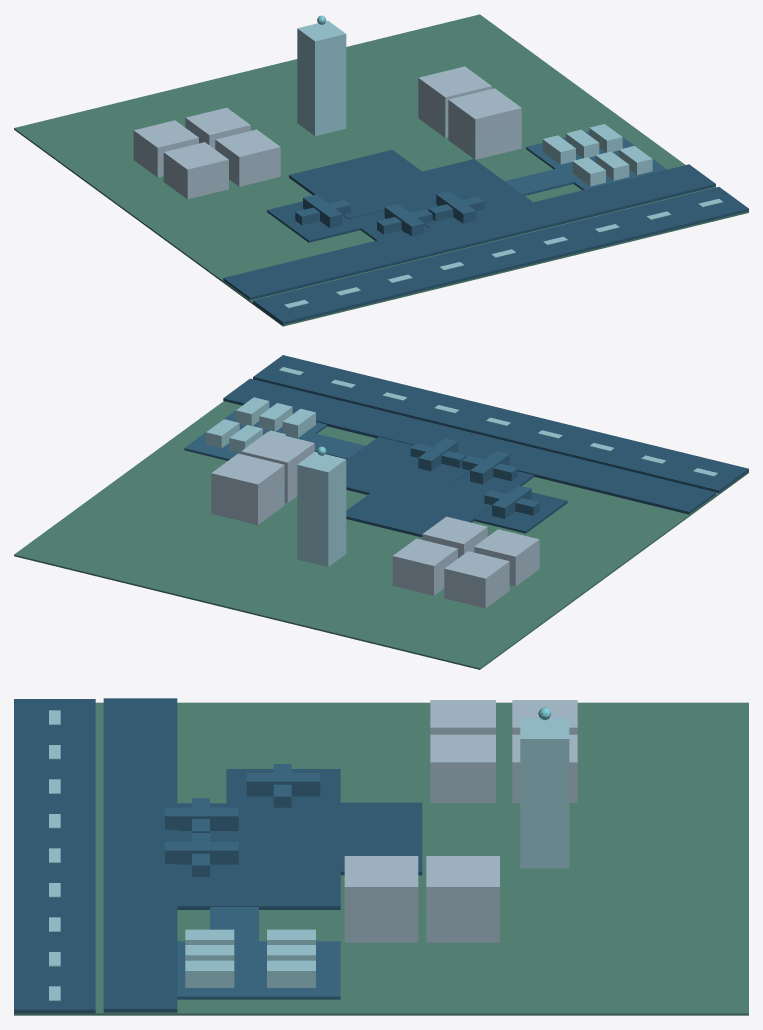
File: stage_16.glb
3 renders of one model, top to bottom at view 1: azimuth 30°, elevation 25°; view 2: azimuth 150°, elevation 25°; view 3: azimuth 270°, elevation 25°, orthographic. The views are drawn at different scales.
Visible parts, largest first — view 1: geometry_0; view 2: geometry_0; view 3: geometry_0.
Boxes of the visible parts, x1,y1,x2,y2 form: geometry_0: (14,14,748,326); geometry_0: (14,355,748,669); geometry_0: (14,698,748,1015).
Size of the model in its own units: 9 by 2.06 by 9.
